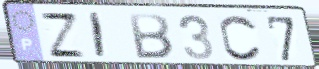3: (177, 13, 214, 61)
7: (264, 15, 297, 62)
B: (127, 12, 176, 61)
C: (218, 13, 265, 62)
I: (89, 11, 107, 60)
Z: (37, 11, 88, 60)
